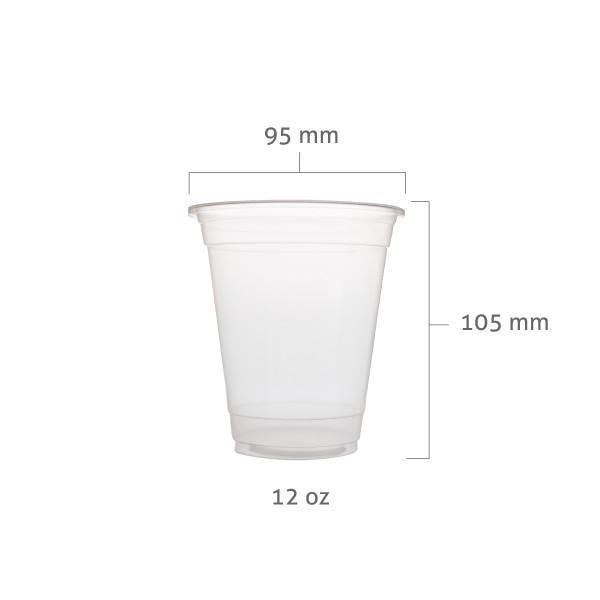plastic_glass: (184, 194, 411, 467)
